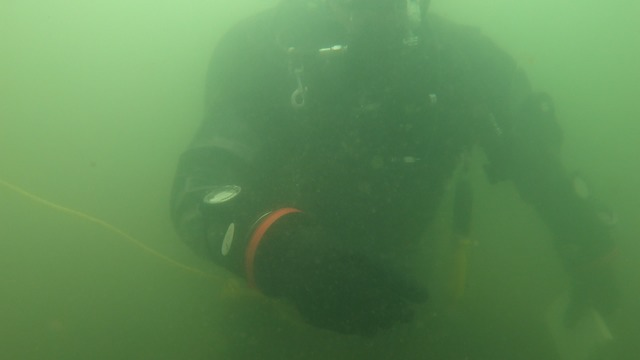Diver: (165, 1, 630, 333)
Hand: (260, 222, 432, 341)
